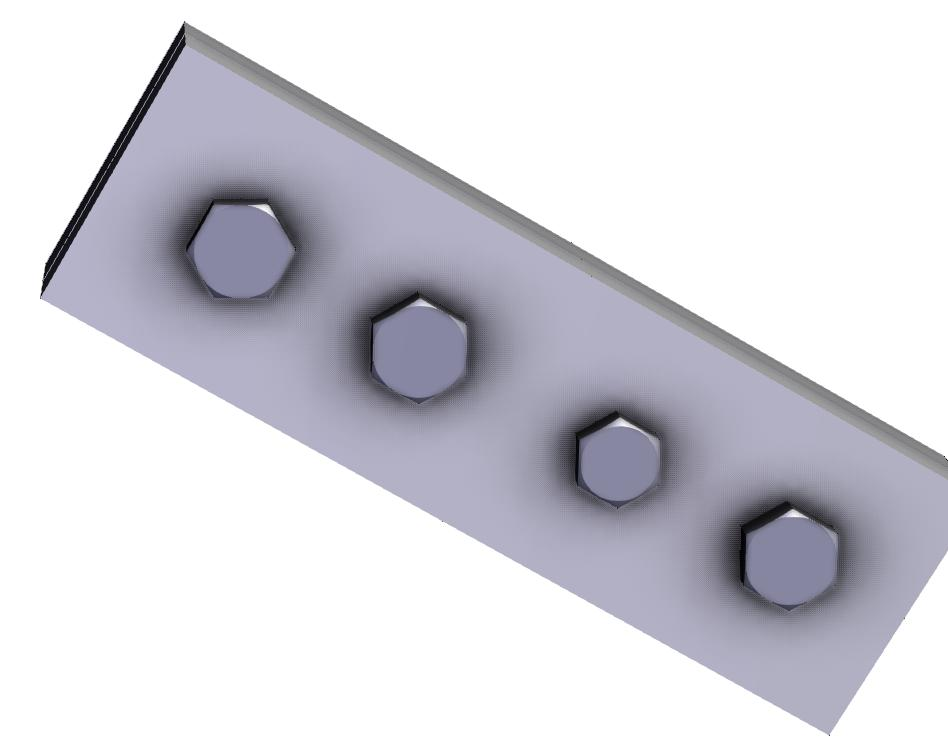bolt_a: (183, 194, 298, 304), (367, 290, 472, 405), (741, 500, 841, 612), (573, 411, 661, 509)
